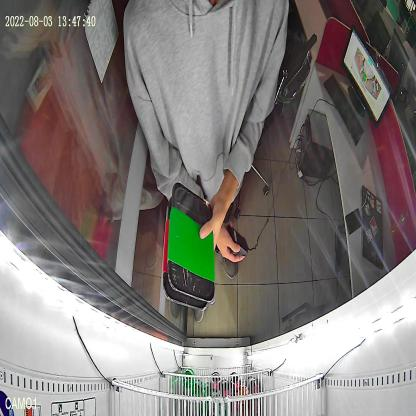green: (167, 182, 215, 302)
red: (162, 196, 209, 312)
